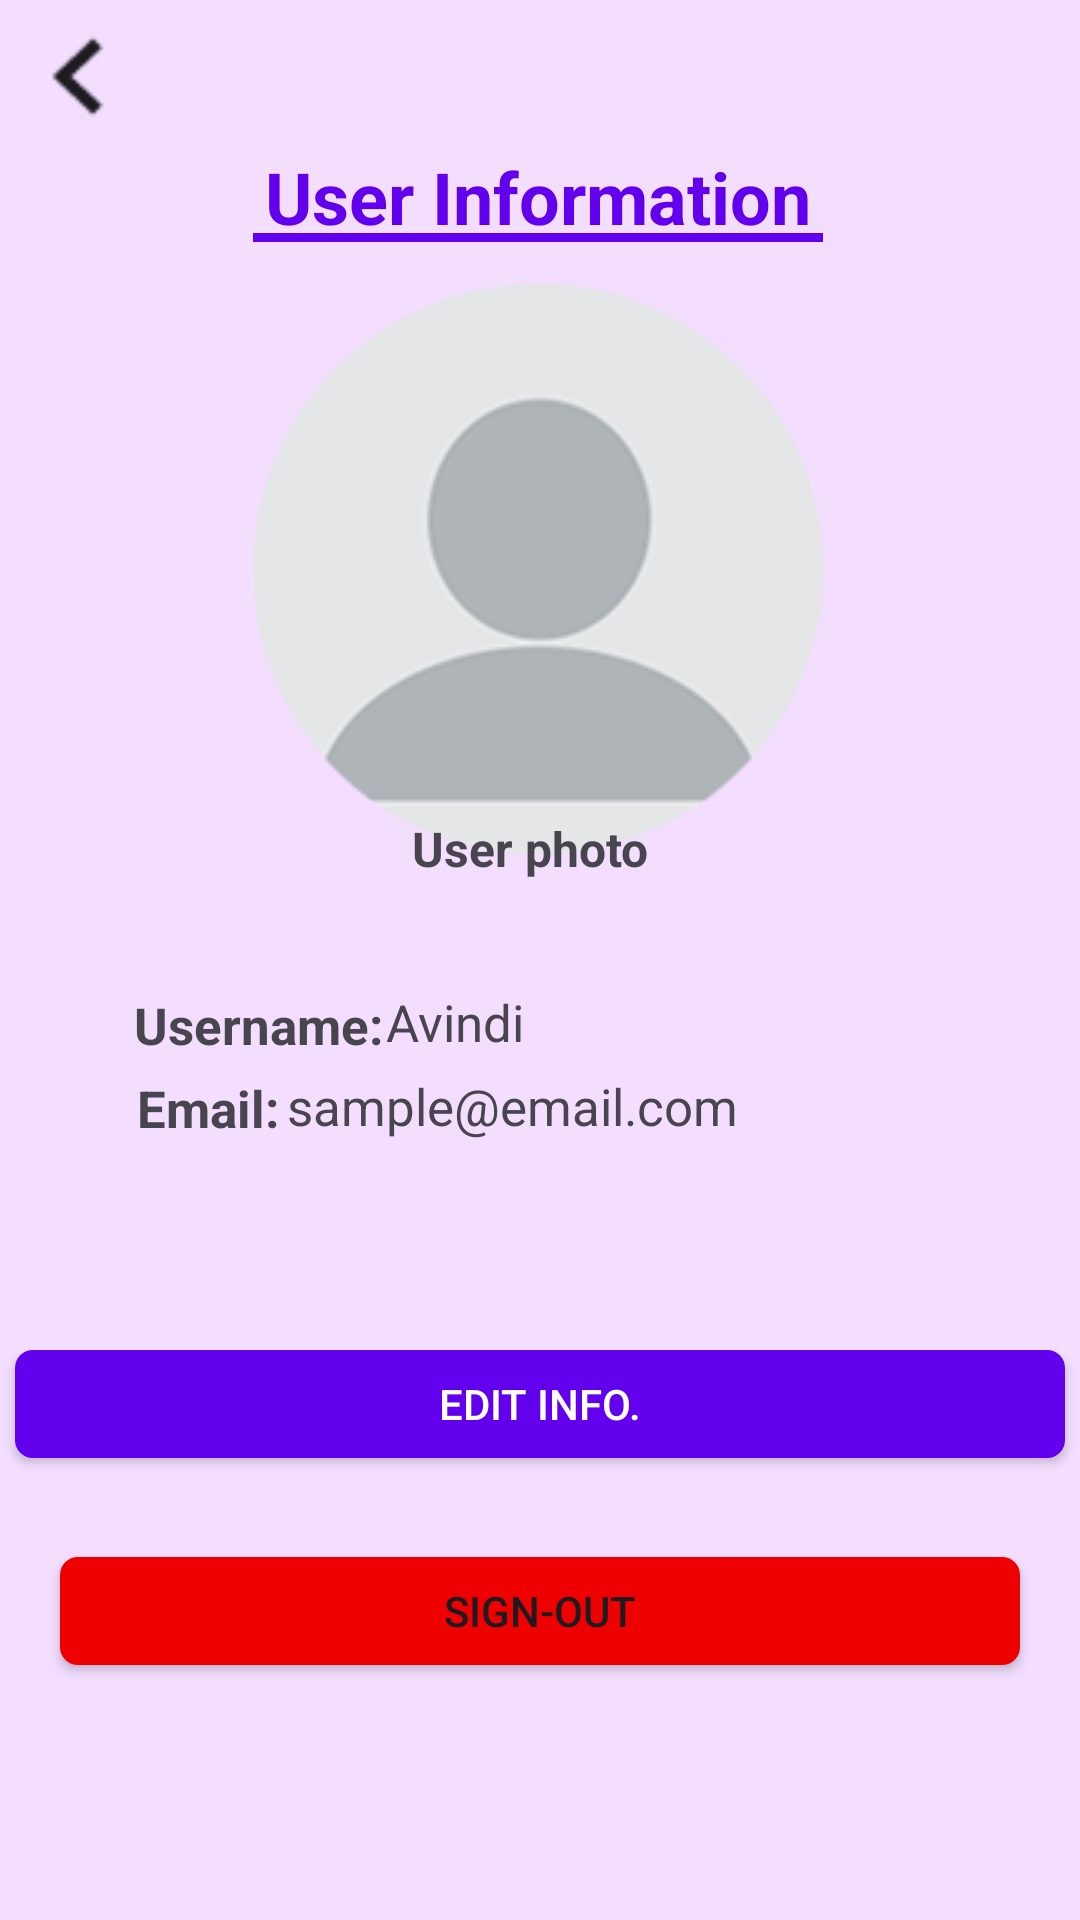

Named icons in this screenshot (1080 x 1920) and their centers, (x=x, y=y):
navigatebefore: (x=77, y=76)
